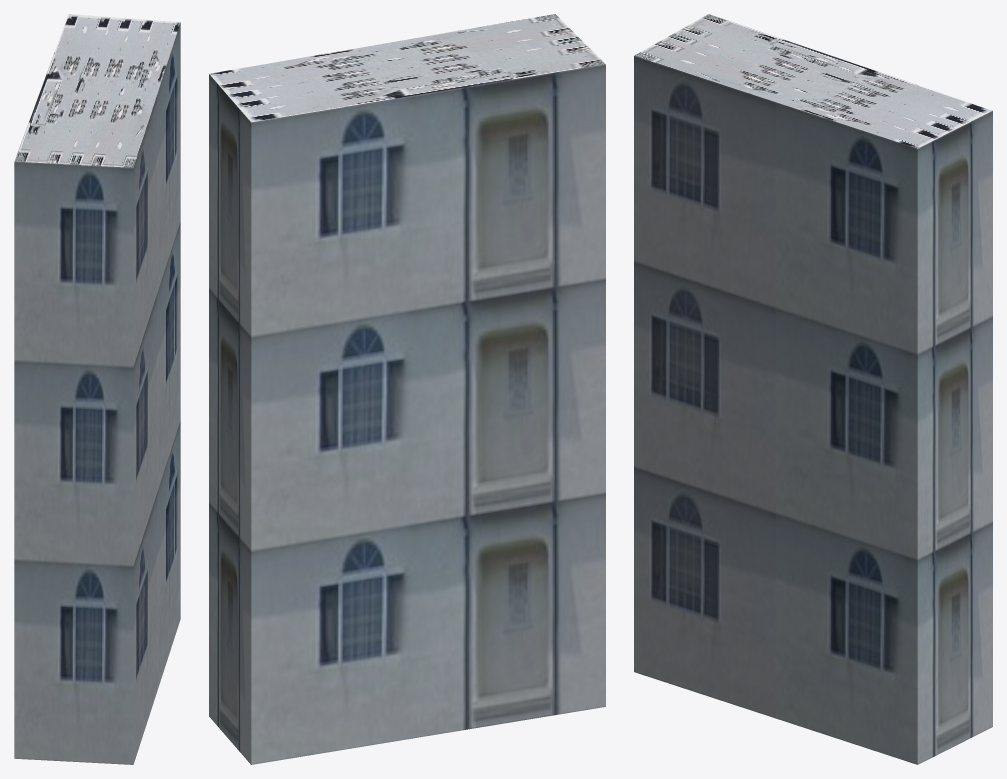
Rendered from ResTex__2294.fbx.
3 views of the same model, side by side, from view 1: azimuth 30°, elevation 25°; view 2: azimuth 150°, elevation 25°; view 3: azimuth 270°, elevation 25° (orthographic). The views are drawn at different scales.
Parts seen in each view (by area): view 1: CityEngineMaterial_17_m, CityEngineMaterial_4_m; view 2: CityEngineMaterial_17_m, CityEngineMaterial_4_m; view 3: CityEngineMaterial_17_m, CityEngineMaterial_4_m.
Part boxes in pixels (x1,y1,x2,y2): CityEngineMaterial_17_m: (14,22,180,764); CityEngineMaterial_4_m: (14,14,180,167); CityEngineMaterial_17_m: (209,64,605,764); CityEngineMaterial_4_m: (209,14,605,122); CityEngineMaterial_17_m: (634,56,992,764); CityEngineMaterial_4_m: (634,14,992,148).
Size of the model in its own units: 4.22 by 9 by 4.75.
Materials: 2 (2 with a texture image).
